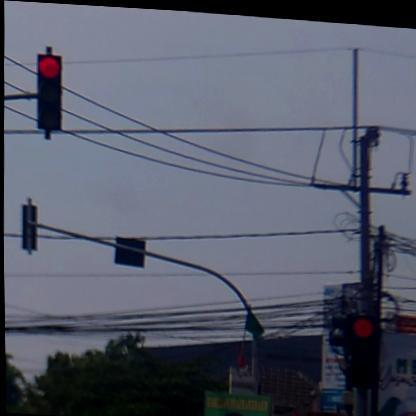red: (344, 308, 378, 389), (34, 50, 63, 132)
